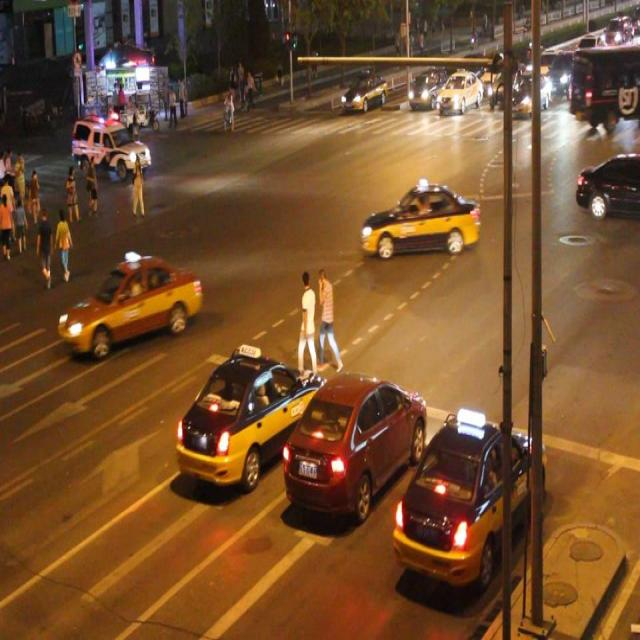car: (399, 409, 542, 582), (285, 368, 426, 519), (177, 351, 324, 482), (56, 255, 202, 352), (360, 182, 479, 258), (73, 113, 150, 177), (575, 151, 640, 219), (437, 70, 479, 113), (343, 69, 384, 110), (408, 67, 446, 106)
truck: (568, 44, 640, 125)
